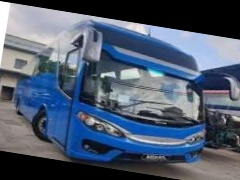bus: (9, 8, 231, 178)
